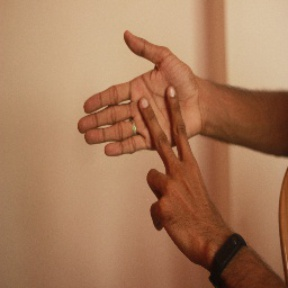N: (63, 26, 216, 221)
